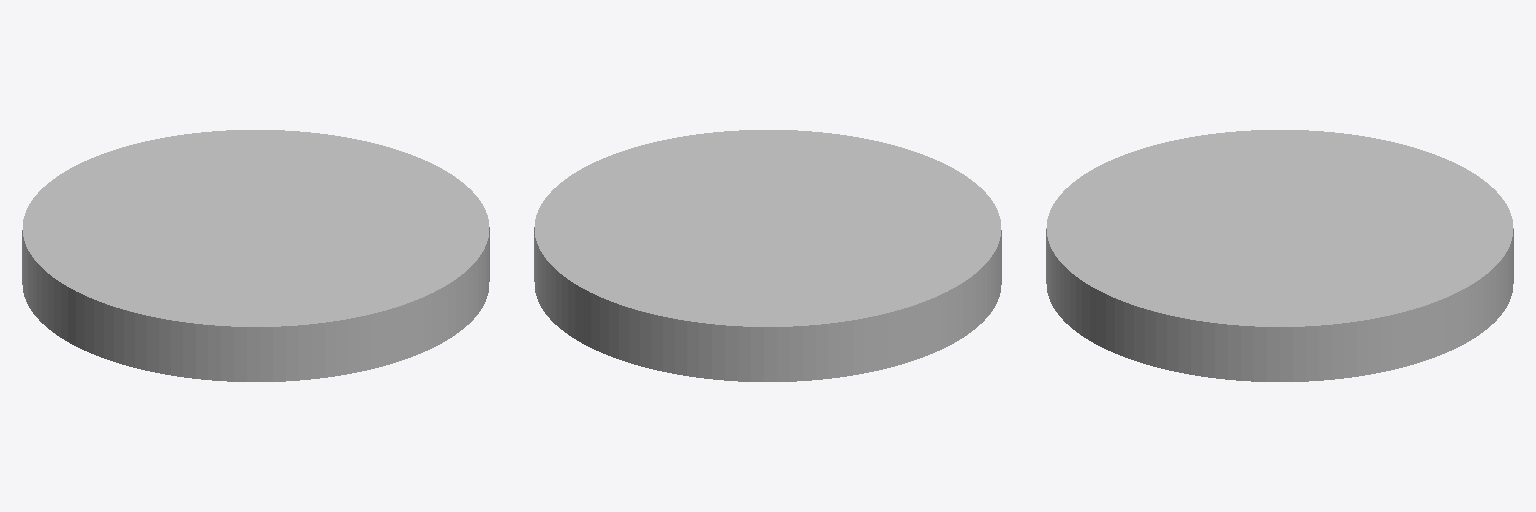
File: TestBlade2-1.obj
The picture shows the model from 3 angles: view 1: azimuth 30°, elevation 25°; view 2: azimuth 150°, elevation 25°; view 3: azimuth 270°, elevation 25°; orthographic projection.
Size of the model in its own units: 2.3 by 0.3 by 2.3.